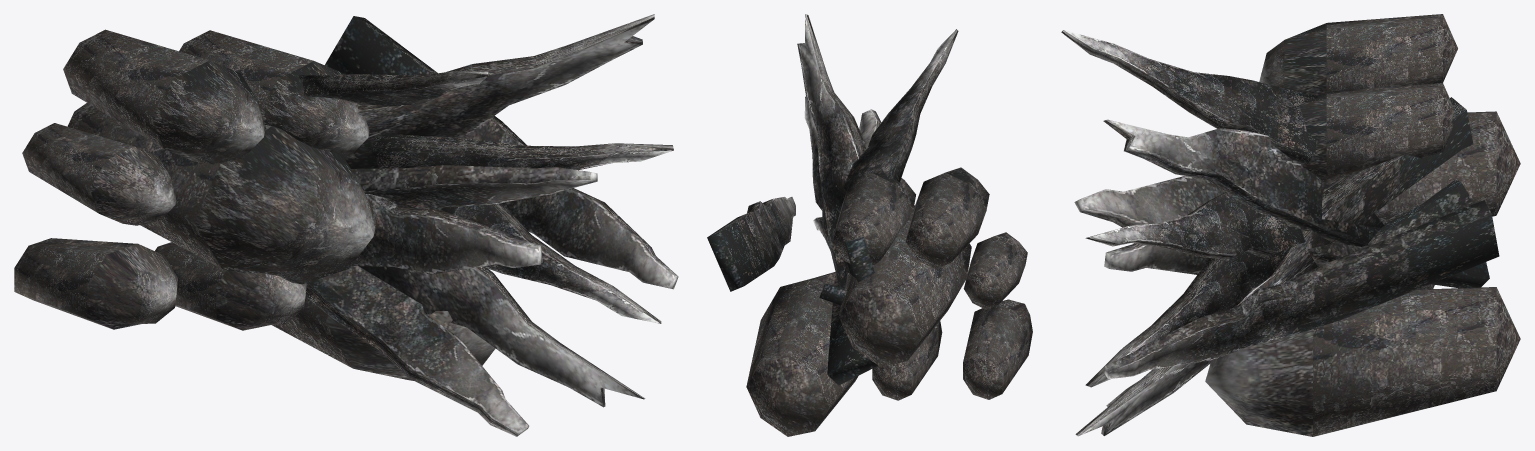
File: eye_wal_12.obj
3 views of the same model, side by side, from view 1: azimuth 30°, elevation 25°; view 2: azimuth 150°, elevation 25°; view 3: azimuth 270°, elevation 25° (orthographic). The views are drawn at different scales.
Parts seen in each view (by area): view 1: rocksss; view 2: rocksss; view 3: rocksss.
Part boxes in pixels (left/top/right/bottom): rocksss: left=14, top=14, right=678, bottom=436; rocksss: left=707, top=14, right=1032, bottom=436; rocksss: left=1061, top=14, right=1520, bottom=436.
Bounding box in the file's own units: 10.8 × 9.03 × 9.9.
